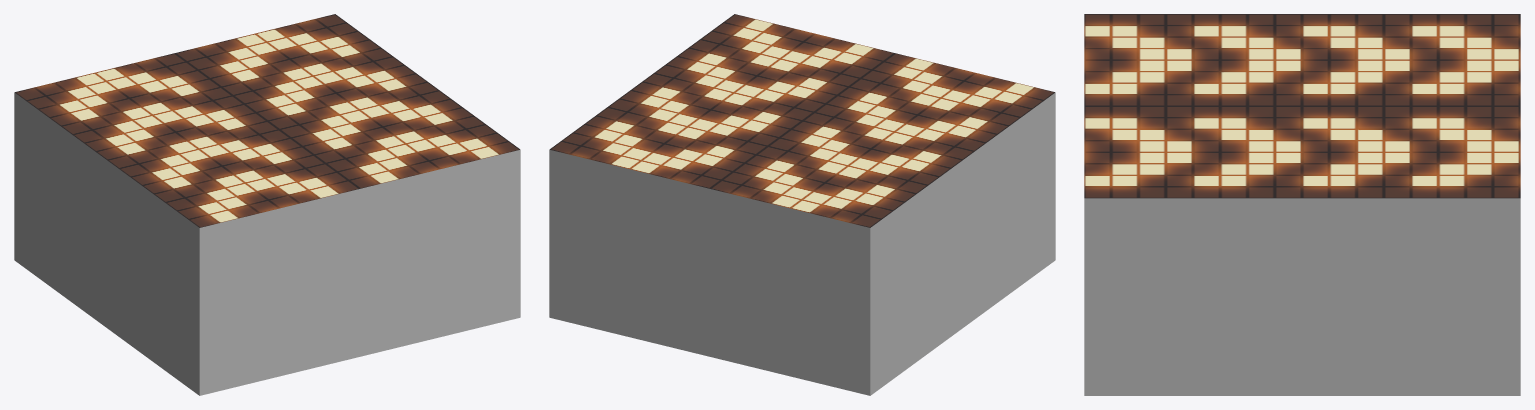
Rendered from RED_Cube_rail.FBX.
3 views of the same model, side by side, from view 1: azimuth 30°, elevation 25°; view 2: azimuth 150°, elevation 25°; view 3: azimuth 270°, elevation 25° (orthographic). The views are drawn at different scales.
Parts seen in each view (by area): view 1: RED_Cube_rail, RED_Cube_rail_conveyor; view 2: RED_Cube_rail, RED_Cube_rail_conveyor; view 3: RED_Cube_rail, RED_Cube_rail_conveyor.
Boxes of the visible parts, box(x1,y1,x2,y2) form: RED_Cube_rail: box(14, 92, 520, 395); RED_Cube_rail_conveyor: box(15, 14, 519, 227); RED_Cube_rail: box(549, 92, 1055, 395); RED_Cube_rail_conveyor: box(550, 14, 1054, 227); RED_Cube_rail: box(1084, 198, 1520, 395); RED_Cube_rail_conveyor: box(1084, 14, 1520, 198).
Size of the model in its own units: 53.76 by 26.88 by 53.76.
